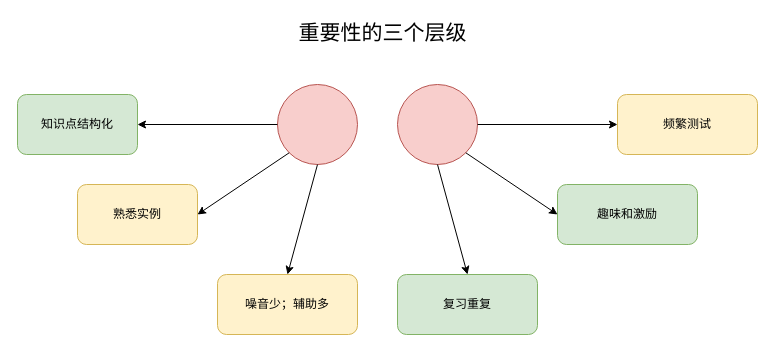
The diagram is 775 pixels wide and 352 high, and some of its shapes have lost their labels. Each missing label, with the centre of its shape:
"扎实掌握" belongs at point (437, 124).
"颗粒化" belongs at point (317, 124).
